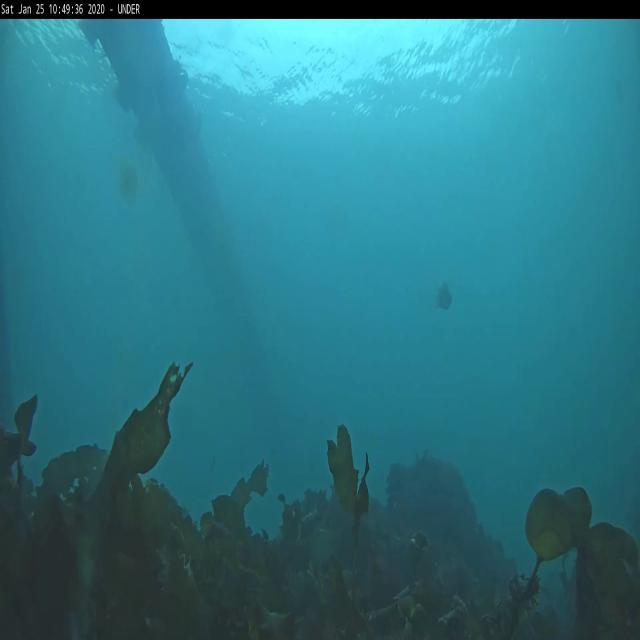fish: (432, 276, 452, 318)
